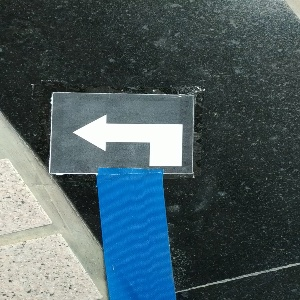left: (50, 91, 192, 173)
